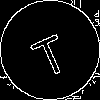T: (25, 25, 72, 79)
